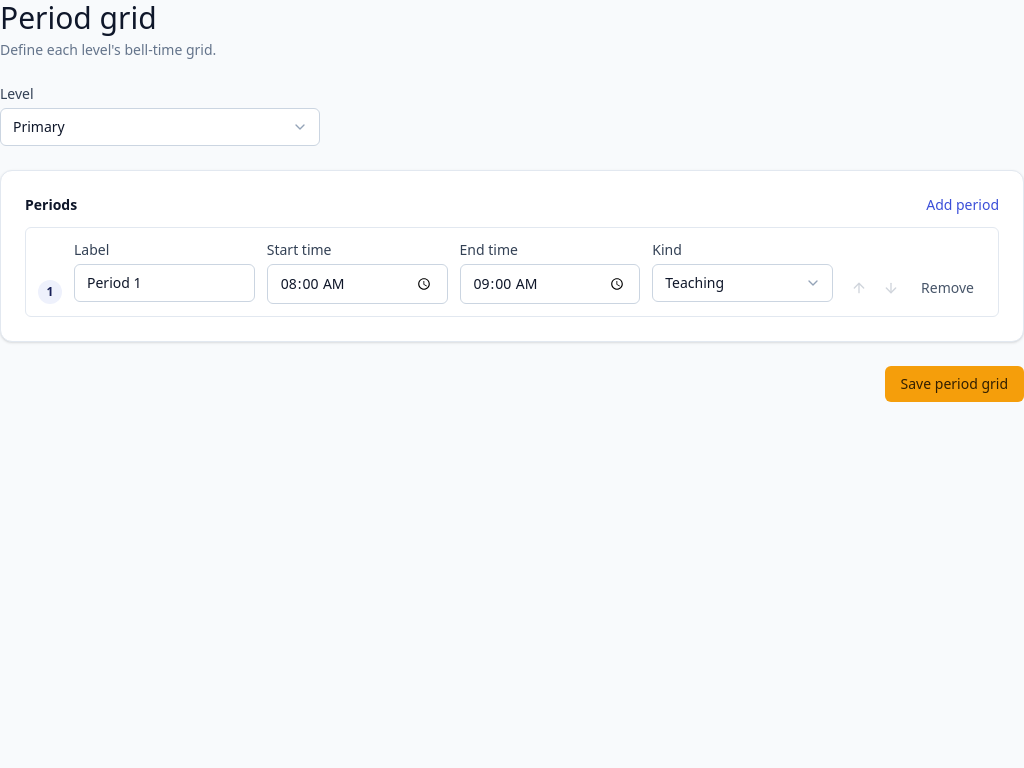
it: PeriodGridPage › names the overlapping times in the error message
expect the field showing "Period 1" is shown: met, box [74,264,255,302]
Click the button "Add period" at x=963, y=205, box [926,195,999,215]
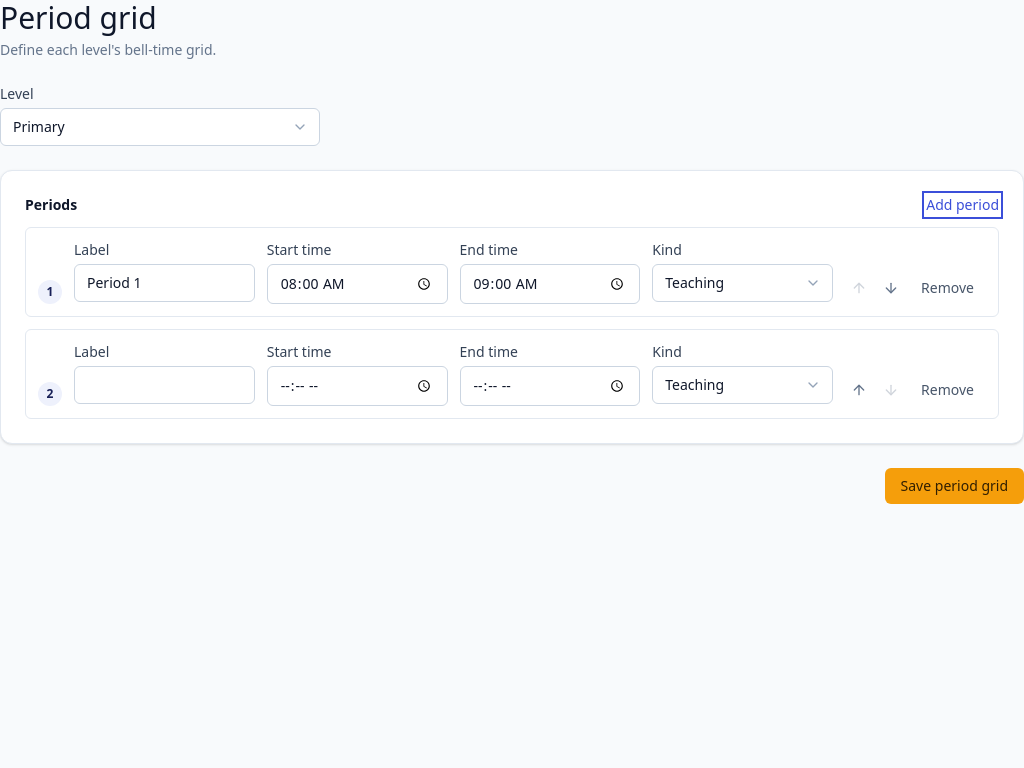
Type "Period 2" into the 2nd field labelled "Label" at x=164, y=385, box [74,366,255,404]
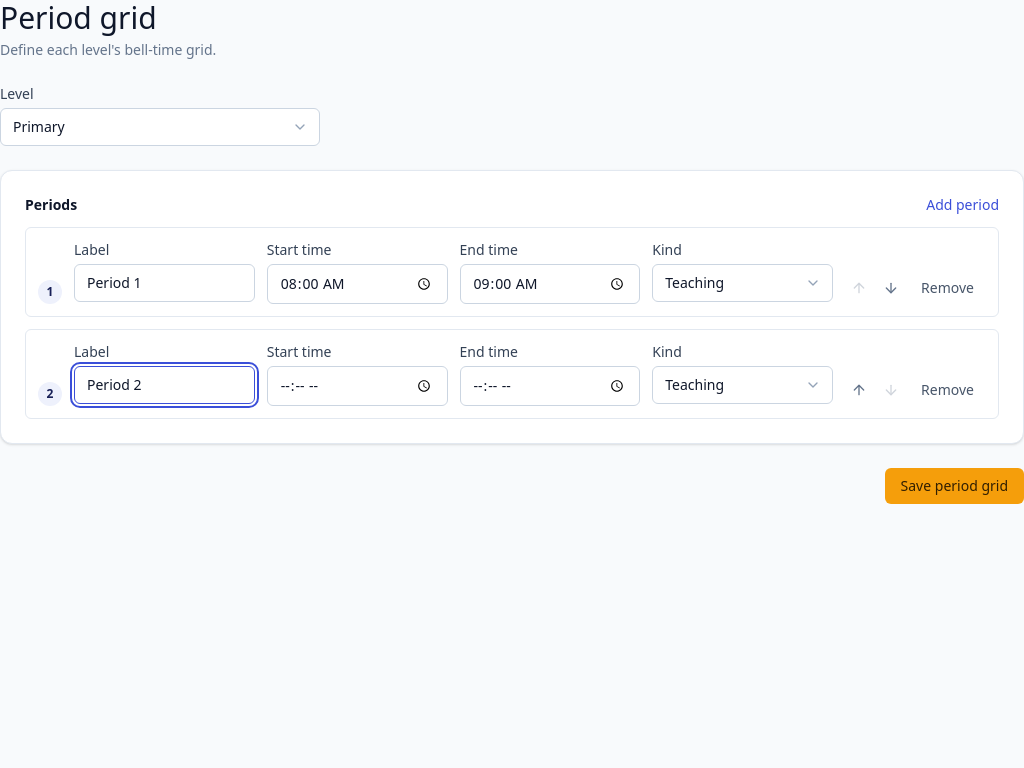
Type "08:30" into the 2nd time field labelled "Start time" at x=357, y=386, box [267,366,448,406]
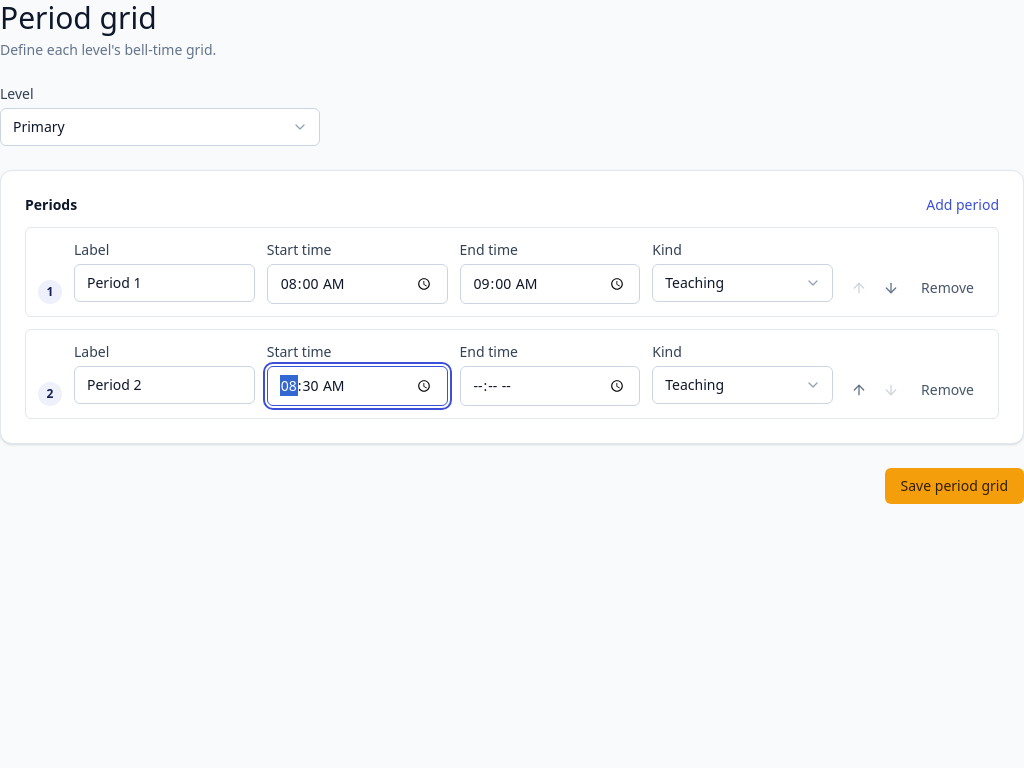
Type "09:30" into the 2nd time field labelled "End time" at x=550, y=386, box [460,366,640,406]
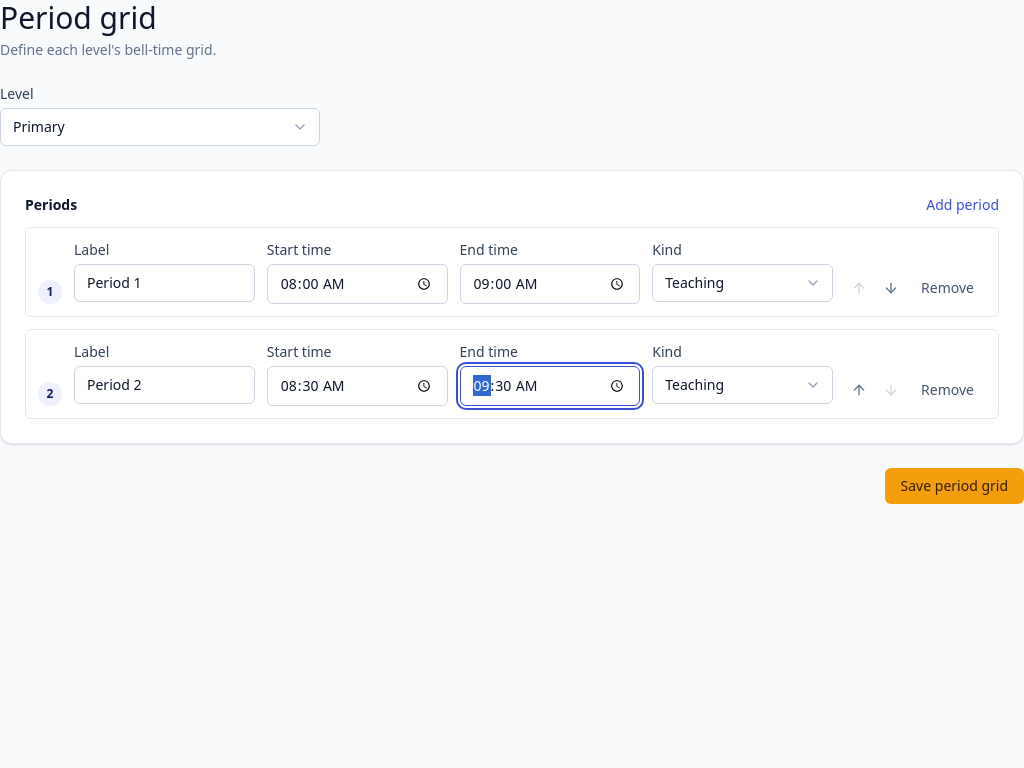
Click the button "Save period grid" at x=954, y=486, box [885,468,1023,504]
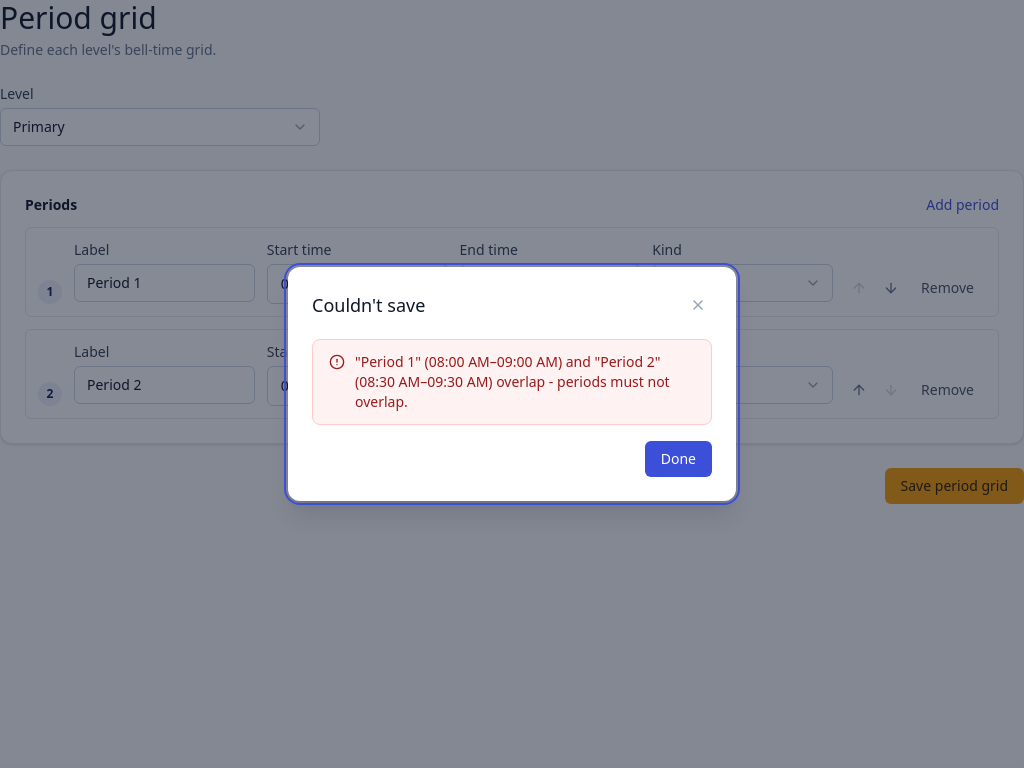
expect the text "\"Period 1\" (08:00 AM–09:00 AM) and \"Period 2\" (08:30 AM–09:30 AM) overlap - periods must not overlap." is shown: met, box [355,352,670,411]
